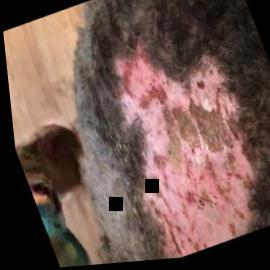skin_lesions: (82, 22, 270, 265)
